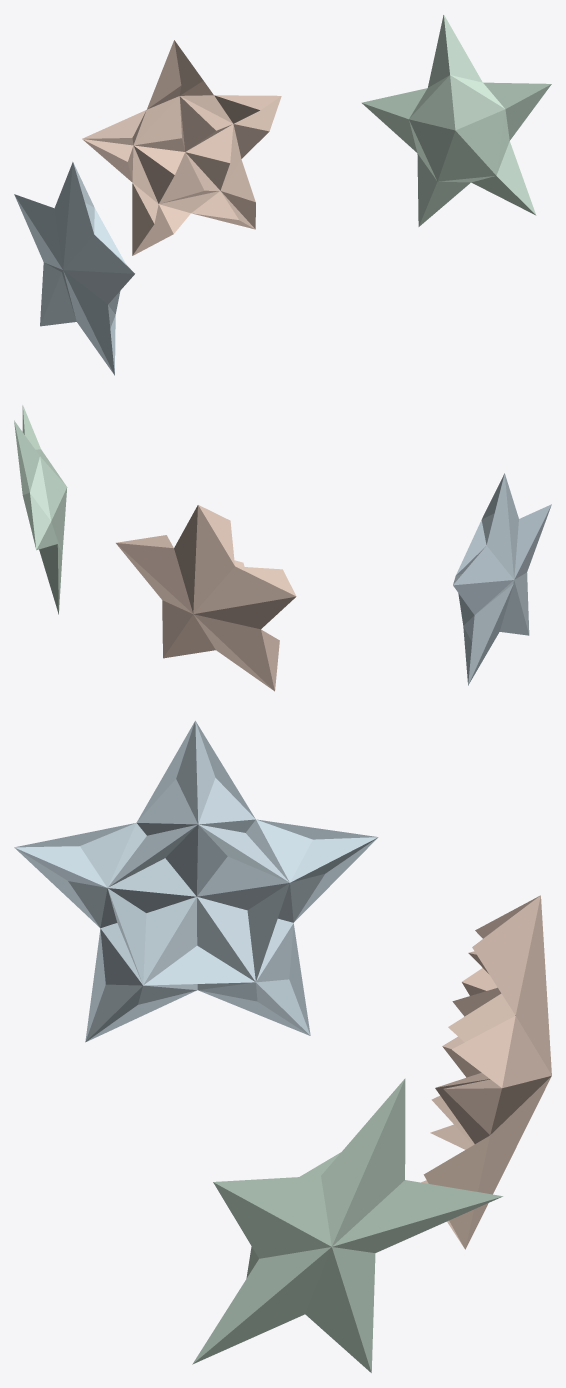
File: stars.glb
3 views of the same model, one above another, from view 1: azimuth 30°, elevation 25°; view 2: azimuth 150°, elevation 25°; view 3: azimuth 270°, elevation 25° (orthographic). The views are drawn at different scales.
Visible parts, largest first — view 1: Circle.002, Circle, Circle.001; view 2: Circle.002, Circle.001, Circle; view 3: Circle.001, Circle, Circle.002.
Boxes of the visible parts, x1,y1,x2,y2 form: Circle.002: (82, 40, 281, 255); Circle: (361, 14, 551, 226); Circle.001: (14, 162, 134, 375); Circle.002: (116, 505, 296, 691); Circle.001: (453, 473, 551, 685); Circle: (14, 405, 67, 614); Circle.001: (14, 720, 378, 1042); Circle: (192, 1078, 502, 1372); Circle.002: (421, 895, 551, 1249).
Size of the model in its own units: 4.89 by 1.91 by 2.8.
